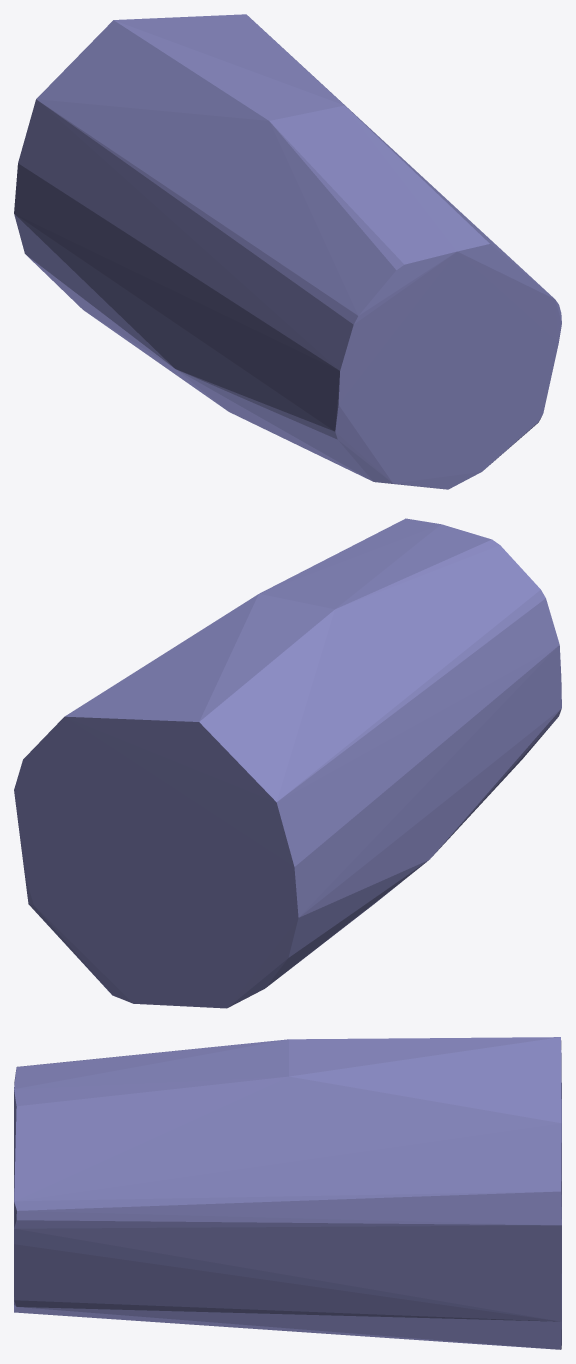
The model's file is handTool_socket_7_16in_b01.glb.
The picture shows the model from 3 angles, top to bottom: view 1: azimuth 30°, elevation 25°; view 2: azimuth 150°, elevation 25°; view 3: azimuth 270°, elevation 25°; orthographic projection. The views are drawn at different scales.
Visible parts, largest first — view 1: geometry_0; view 2: geometry_0; view 3: geometry_0.
Part boxes in pixels (x1,y1,x2,y2): geometry_0: (14,14,561,489); geometry_0: (14,518,561,1008); geometry_0: (14,1037,561,1349).
Bounding box in the file's own units: 0.2672 × 0.2693 × 0.48.
